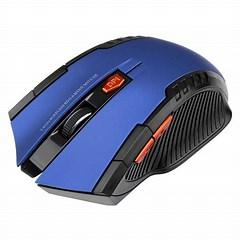computer mouse: (8, 36, 232, 207)
